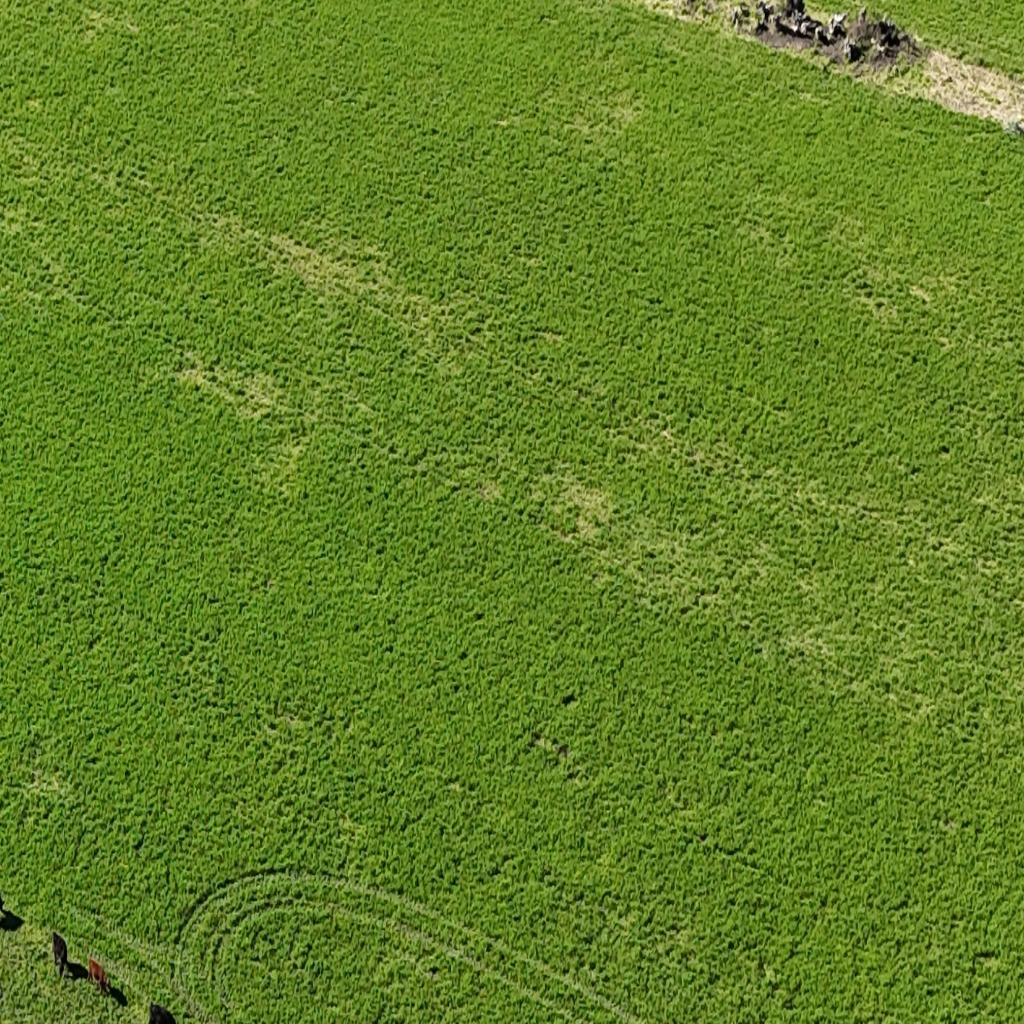cow: (88, 956, 111, 996), (52, 931, 68, 978)
